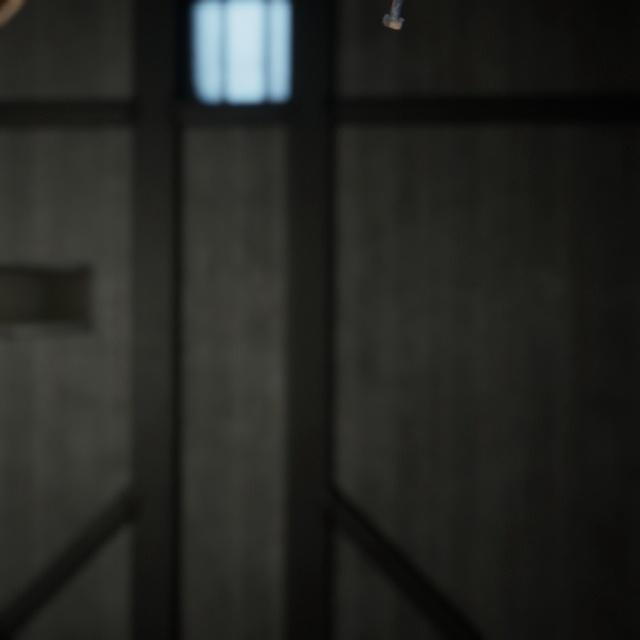bolt: (565, 613, 604, 640), (377, 0, 408, 29)
